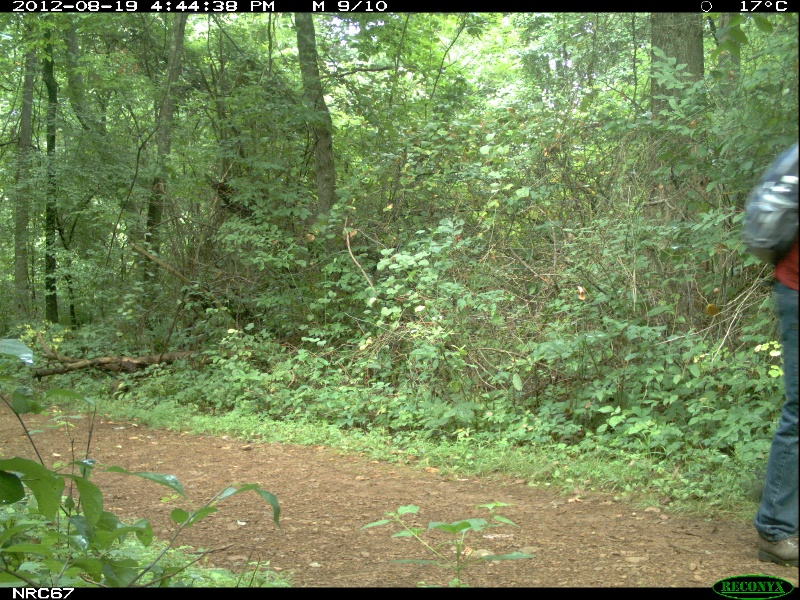human legs: (756, 278, 800, 558)
